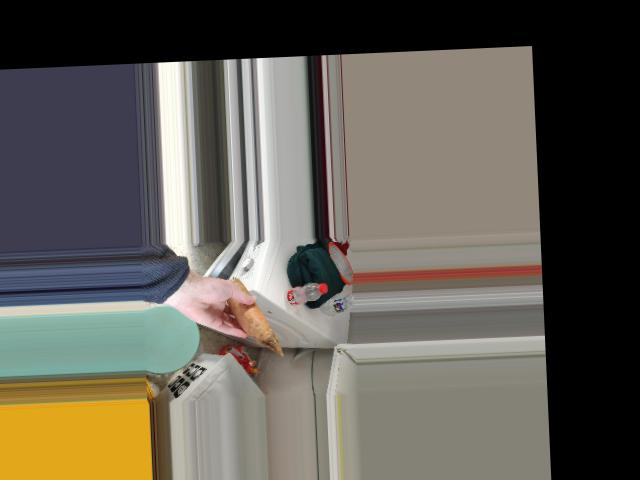sweet_potato: (230, 285, 268, 337)
